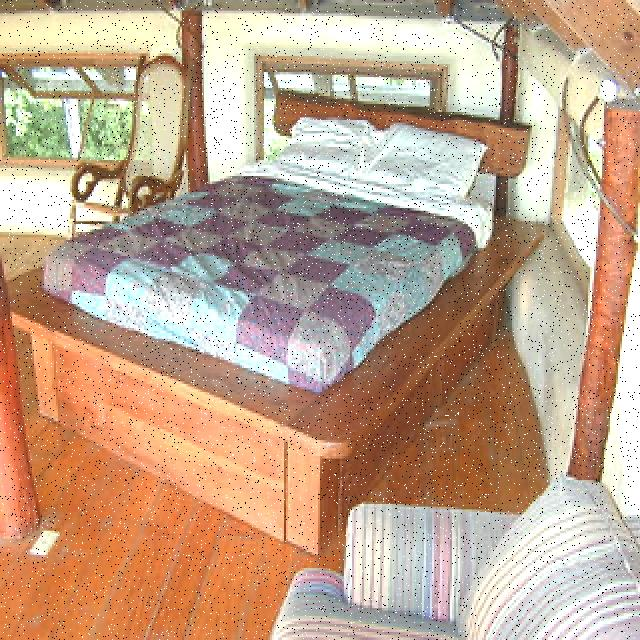bed: (19, 117, 542, 511)
